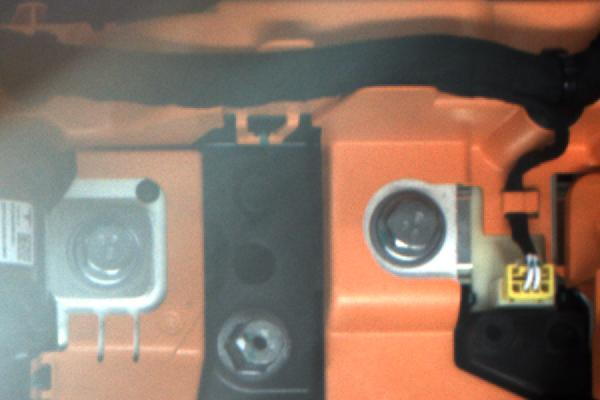nut_b: (360, 185, 456, 275)
